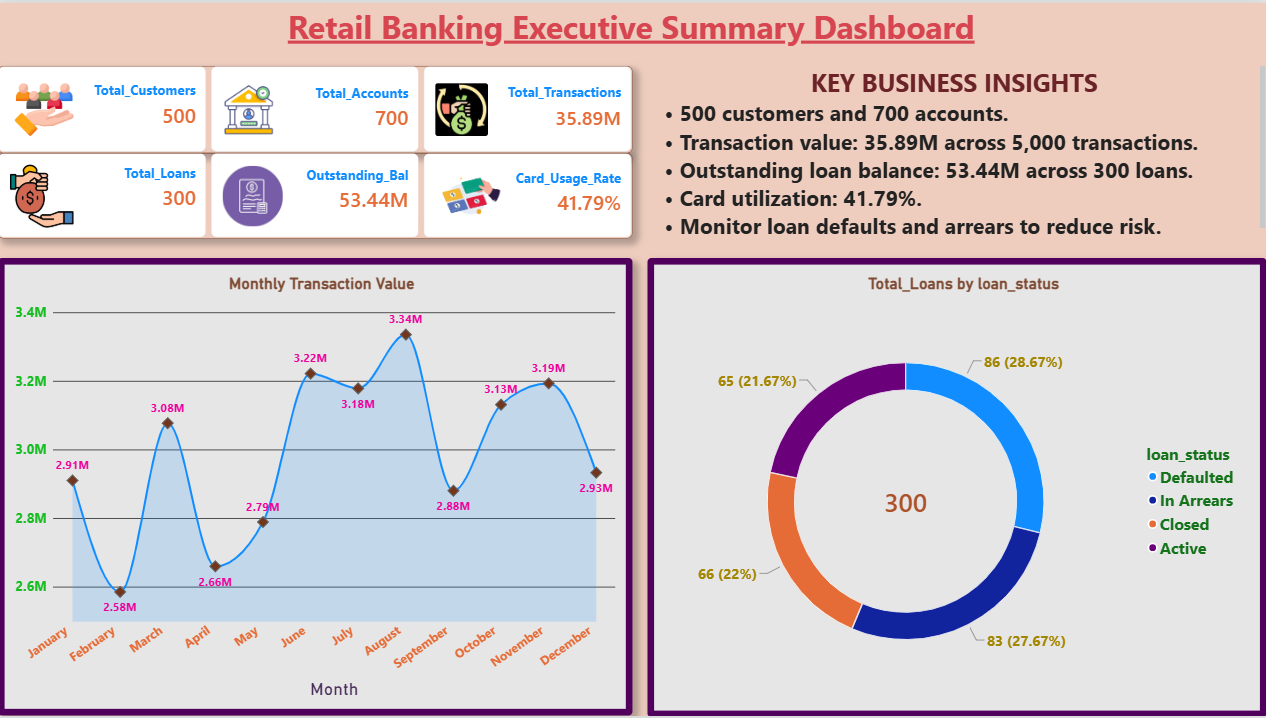

The dashboard page shown, as its layout file describes it:
{"tool":"powerbi","page":{"name":"Executive Summary","canvas":[1920,1080],"ordinal":6},"visuals":[{"type":"cardVisual","fields":{"Data":["customers.Total_Customers","accounts.Total_Accounts","transactions.Total_Transaction_Value"]},"box":[0,95.4,960.8,131.7],"z":0},{"type":"cardVisual","fields":{"Data":["loans.Total_Loans","Sum(loans.outstanding_balance)","cards.Card_Utilisation_Rate"]},"box":[0,227.1,960.8,129.5],"z":1000},{"type":"lineChart","title":"Monthly Transaction Value","fields":{"Category":["date_table.Date.Variation.Date Hierarchy.Year","date_table.Date.Variation.Date Hierarchy.Month"],"Y":["transactions.Total_Transaction_Value"]},"box":[0,386.1,960.8,692.7],"z":2000},{"type":"donutChart","fields":{"Category":["loans.loan_status"],"Y":["loans.Total_Loans"]},"box":[982.5,385,937.5,695],"z":3000},{"type":"textbox","box":[0,2.5,1917.5,67.5],"z":4000},{"type":"textbox","box":[982.5,95,935,262.5],"z":5000}]}

Visuals, with their boxes in screenshot pixels (x1, y1, x2, y2), scaled from the page's 1920x1080 canvas onto the 1266x718 screenshot:
cardVisual - customers.Total_Customers x accounts.Total_Accounts: bbox=(0, 63, 634, 151)
cardVisual - loans.Total_Loans x Sum(loans.outstanding_balance): bbox=(0, 151, 634, 237)
"Monthly Transaction Value" lineChart: bbox=(0, 257, 634, 717)
donutChart - loans.loan_status x loans.Total_Loans: bbox=(648, 256, 1265, 717)
textbox: bbox=(0, 2, 1264, 47)
textbox: bbox=(648, 63, 1264, 238)
